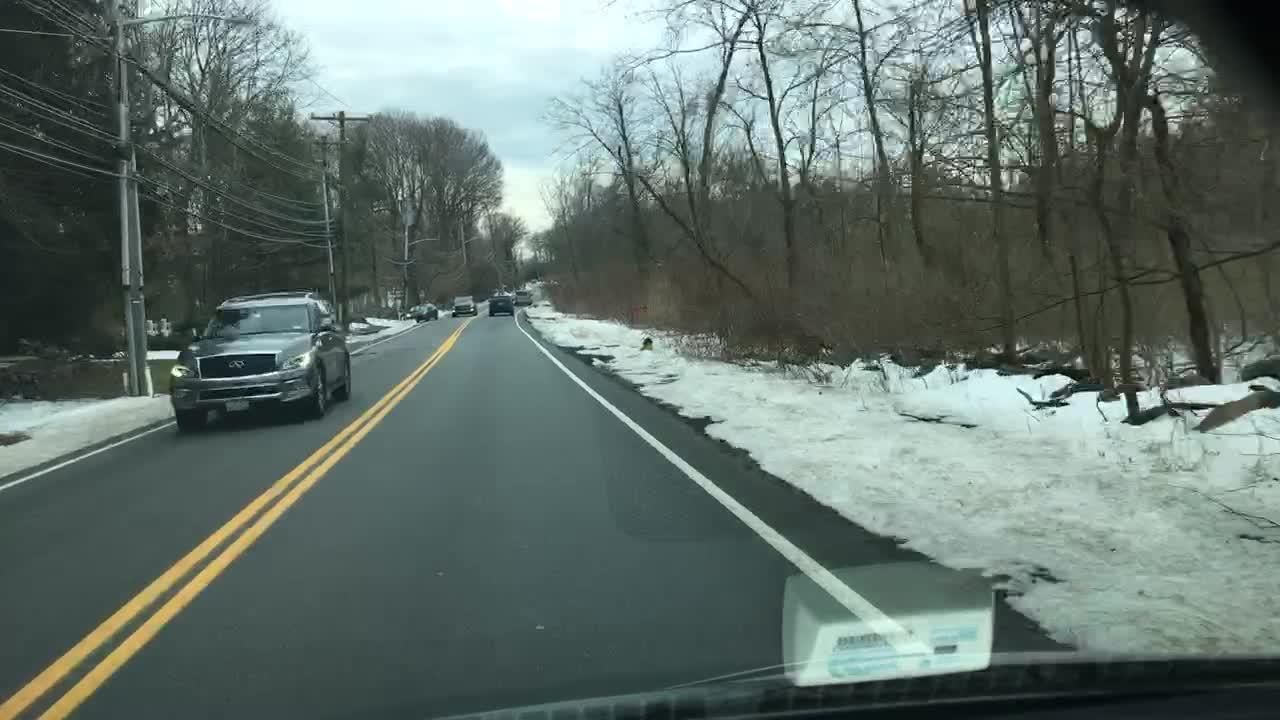Infiniti: (224, 356, 250, 373)
